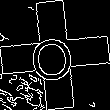O_N: (31, 27, 79, 83)
